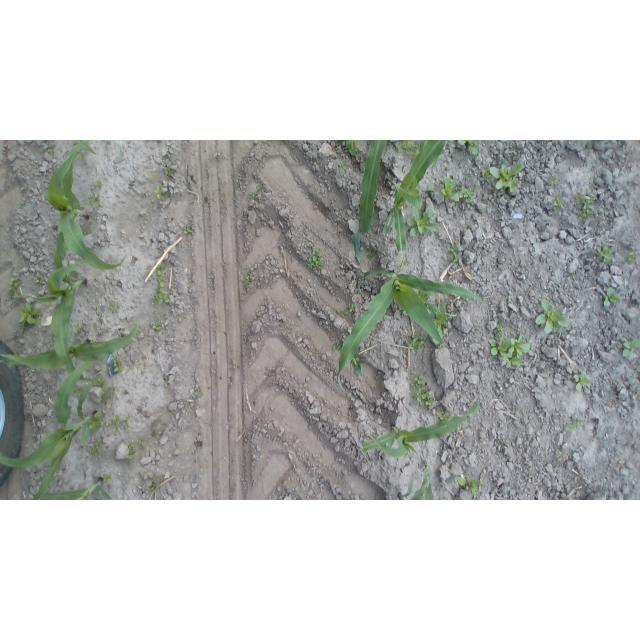Maize: (336, 261, 481, 393), (0, 362, 100, 500), (48, 141, 129, 286), (31, 255, 103, 383), (381, 140, 451, 254), (0, 321, 140, 370), (363, 398, 479, 456), (353, 141, 387, 262), (38, 476, 113, 501), (398, 462, 434, 500), (75, 141, 97, 158)
Weeds: (488, 332, 533, 370), (536, 298, 573, 334), (406, 205, 439, 239), (489, 163, 523, 194), (575, 185, 599, 222), (17, 299, 43, 331), (141, 473, 165, 499), (439, 174, 460, 203), (455, 475, 481, 498), (433, 300, 452, 328), (410, 388, 435, 408), (620, 335, 640, 360), (405, 334, 428, 355), (306, 247, 326, 271), (604, 286, 623, 310), (595, 243, 615, 265), (573, 369, 592, 392), (350, 356, 370, 377), (459, 184, 477, 207), (397, 141, 418, 160), (111, 413, 130, 433), (458, 140, 481, 156), (155, 262, 169, 287), (446, 241, 462, 262), (409, 373, 427, 391), (85, 192, 103, 209), (87, 413, 102, 432), (106, 299, 122, 316), (153, 183, 169, 200), (154, 287, 170, 303), (550, 193, 565, 210), (85, 440, 101, 455), (366, 242, 378, 262), (239, 273, 253, 290), (345, 140, 358, 158), (110, 353, 122, 372), (563, 421, 577, 435), (397, 257, 412, 270), (625, 249, 637, 265), (98, 386, 112, 399), (436, 410, 450, 423), (164, 163, 177, 177), (9, 277, 21, 290), (7, 289, 21, 300), (331, 339, 342, 353), (184, 221, 195, 235), (150, 320, 162, 332), (496, 321, 505, 336), (93, 177, 104, 189), (34, 274, 45, 285), (585, 141, 596, 152), (194, 386, 204, 398), (100, 471, 112, 481), (421, 462, 431, 474), (73, 323, 83, 334), (337, 161, 347, 172), (335, 310, 347, 319), (556, 449, 566, 459), (548, 175, 558, 185), (93, 377, 104, 386), (125, 451, 136, 460), (480, 169, 489, 180), (424, 185, 435, 194), (246, 192, 258, 200), (525, 470, 535, 479), (347, 303, 355, 314), (163, 377, 170, 389), (126, 441, 135, 450), (256, 182, 265, 191), (82, 227, 91, 235), (137, 439, 145, 447), (87, 215, 93, 224), (577, 418, 584, 425), (437, 343, 445, 349), (141, 269, 143, 281), (339, 187, 343, 193), (109, 280, 113, 285), (636, 392, 640, 397)
